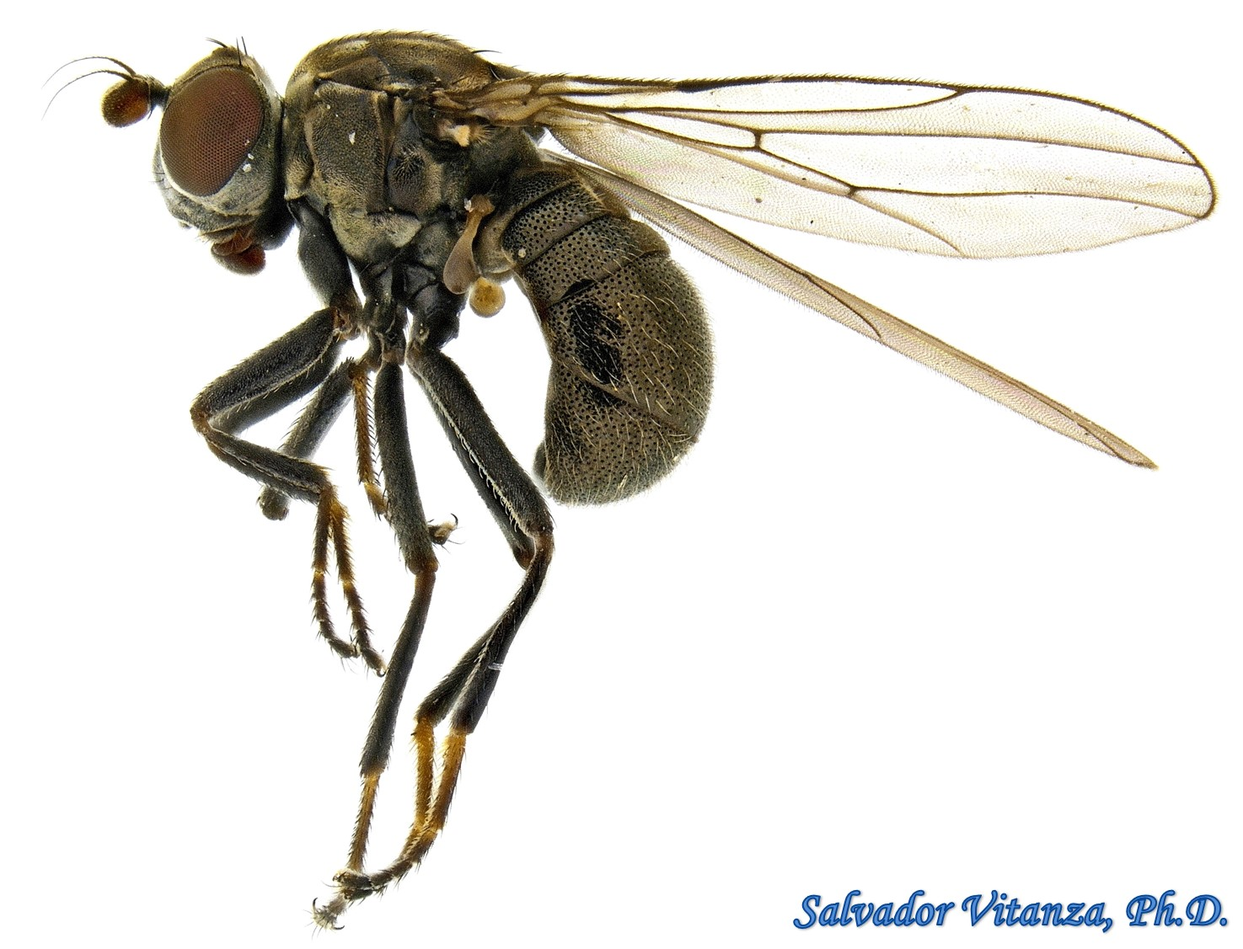Ephydridae: (37, 24, 1220, 941)
